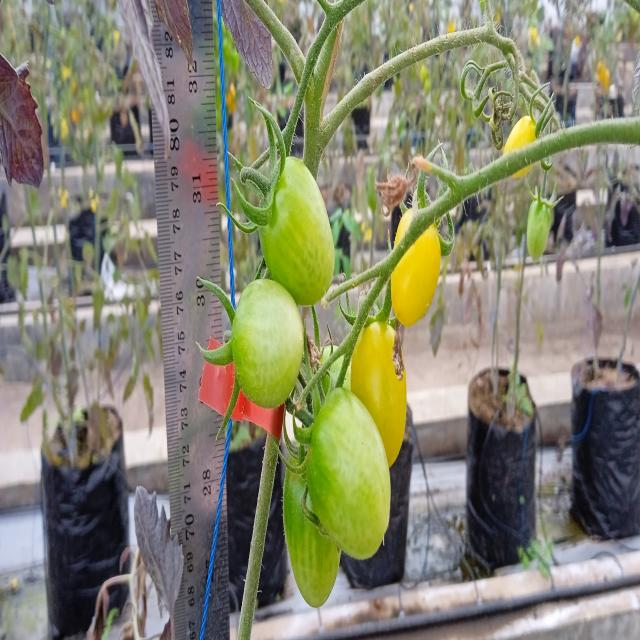fine: (348, 296, 413, 462), (386, 210, 453, 329), (490, 119, 550, 173)
unripe: (302, 374, 390, 541), (217, 277, 317, 413), (268, 137, 339, 302), (278, 433, 336, 608), (523, 194, 561, 278)
